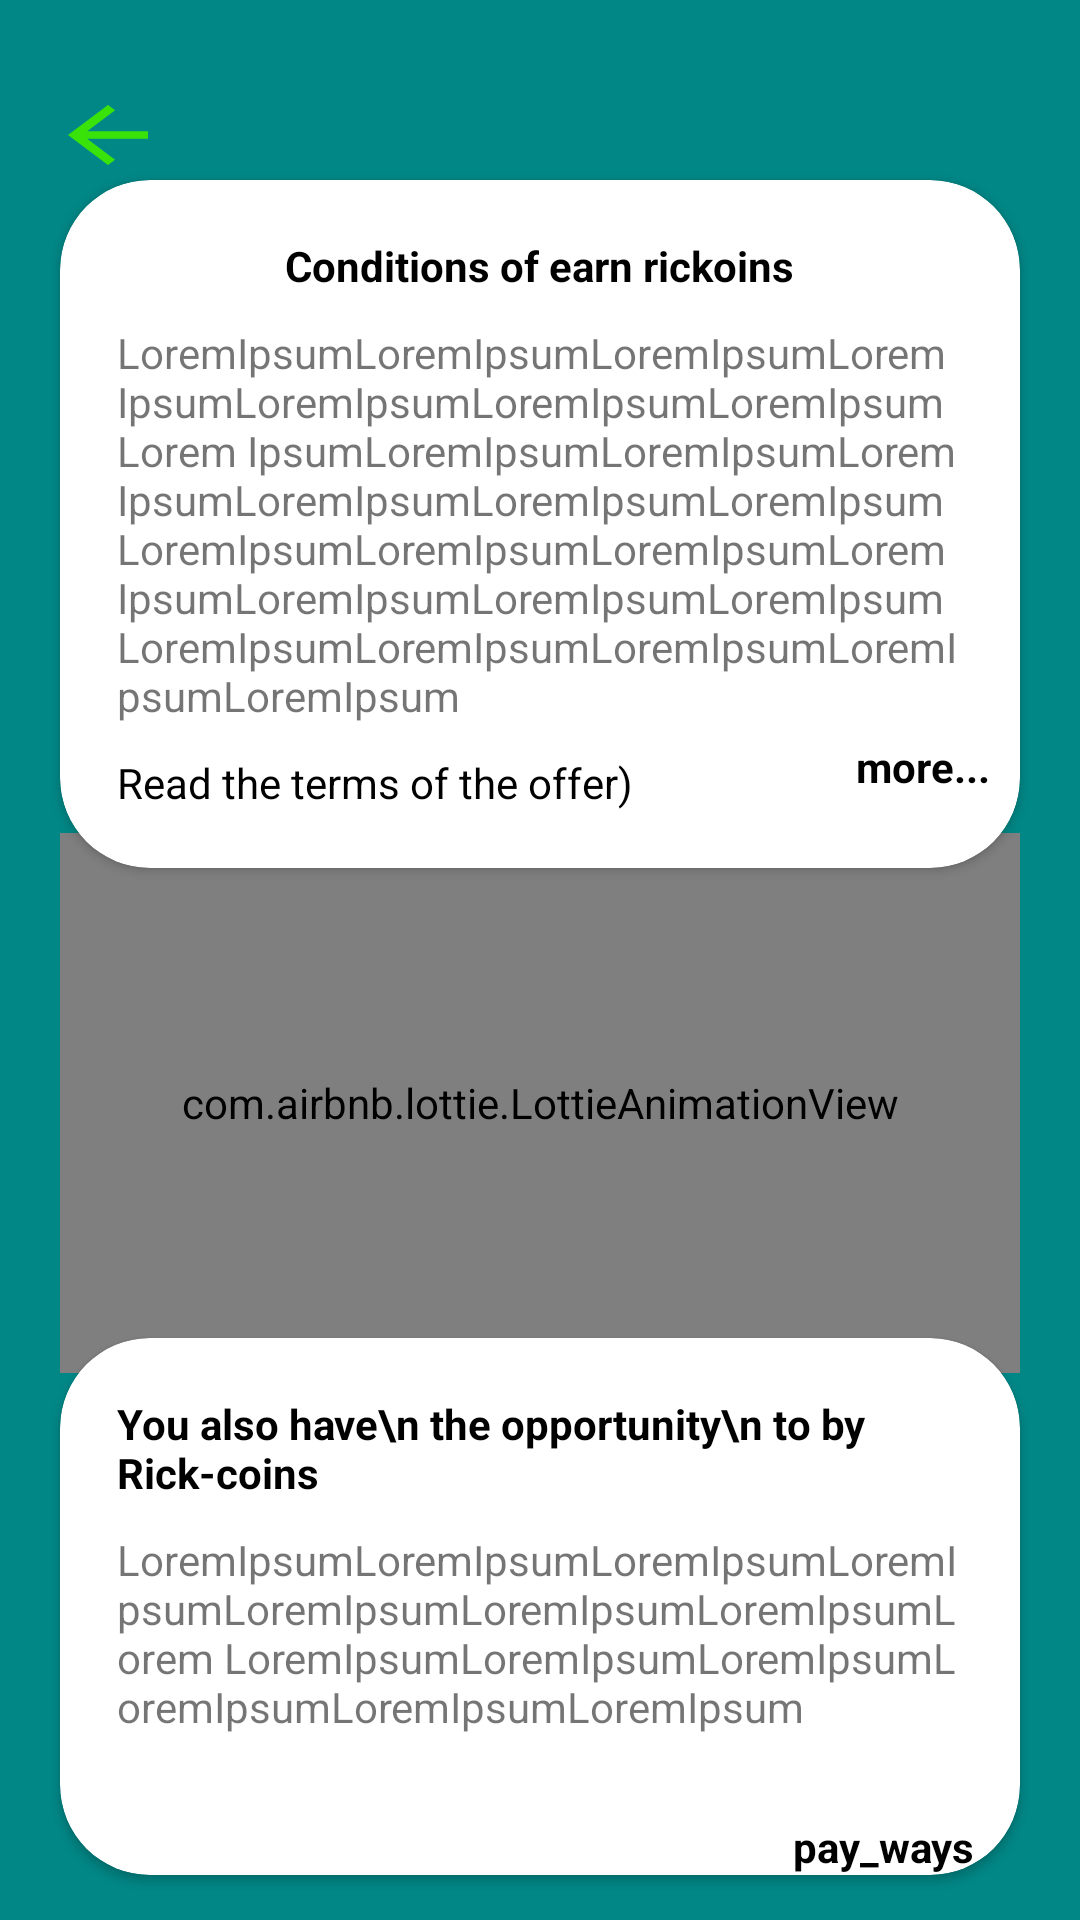

Screen size 1080px x 1920px. Icon name, then its center in pixels as [x,y]:
arrow back: [108,135]
